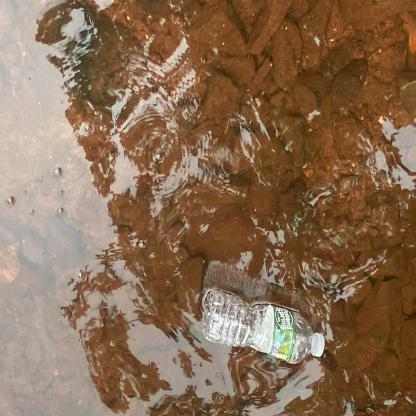Plastic: (199, 280, 331, 368)
